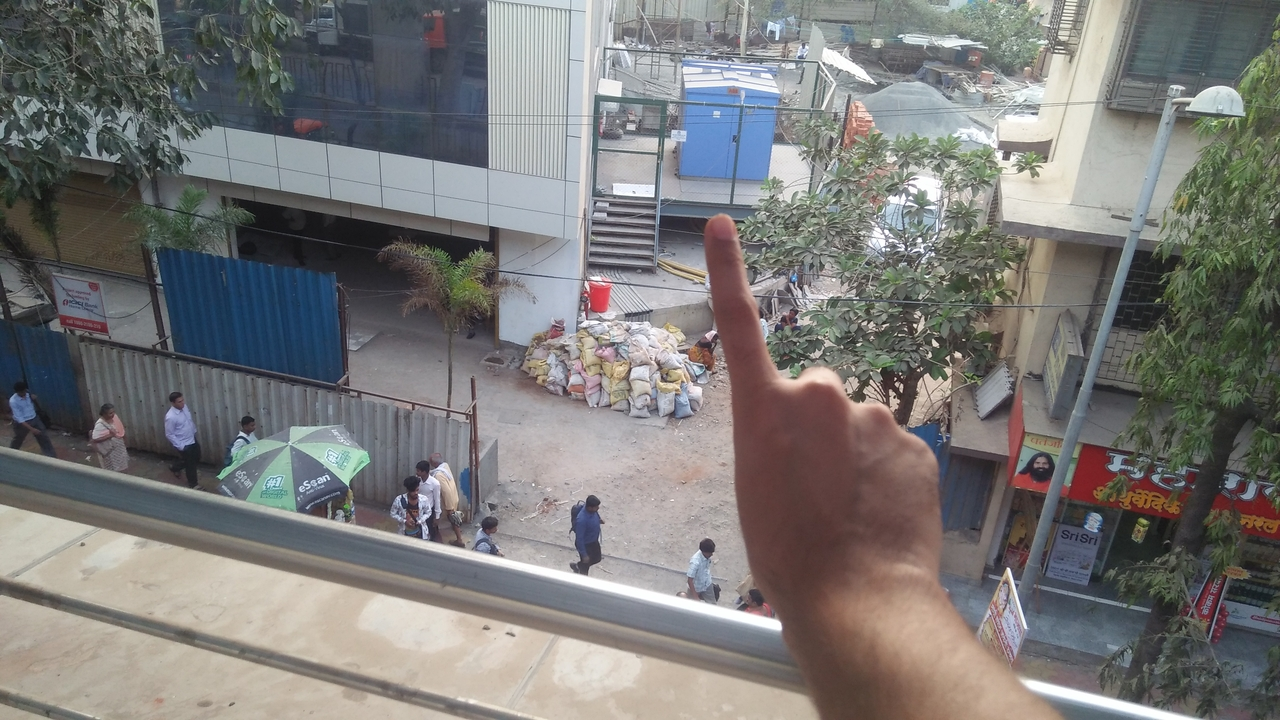fingertip: (700, 206, 744, 248)
